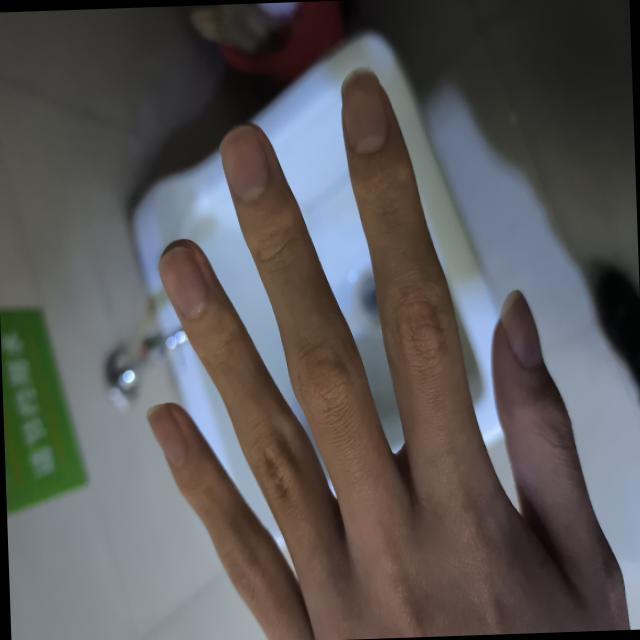Nail: (340, 66, 387, 151), (220, 125, 268, 200), (158, 245, 208, 317), (500, 289, 540, 366), (146, 403, 185, 466)
